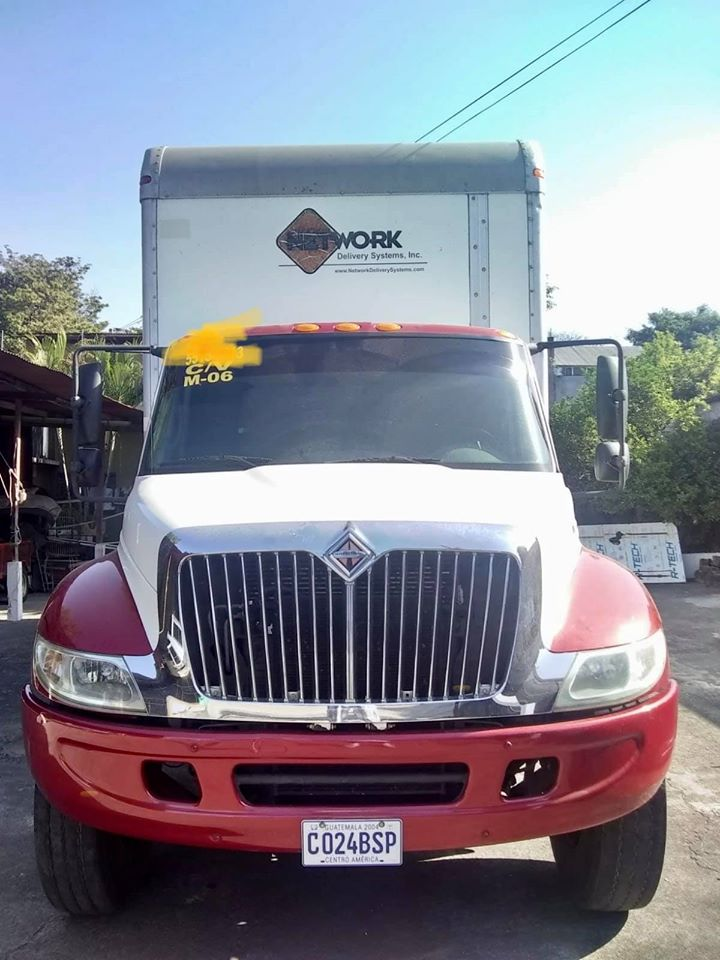camion: (12, 139, 688, 927)
